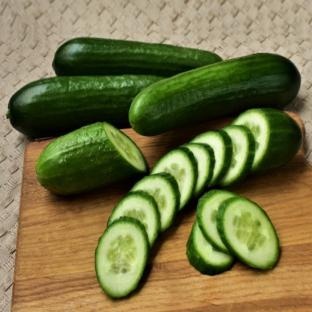Cucumber: (129, 54, 300, 136), (8, 75, 161, 138), (36, 123, 147, 194), (53, 38, 221, 76), (218, 197, 279, 269), (233, 109, 302, 172), (95, 217, 148, 297), (107, 191, 160, 246), (151, 148, 197, 210), (131, 173, 180, 231), (187, 220, 233, 275), (197, 190, 236, 253), (191, 130, 232, 186), (219, 125, 255, 186), (181, 143, 214, 196)
